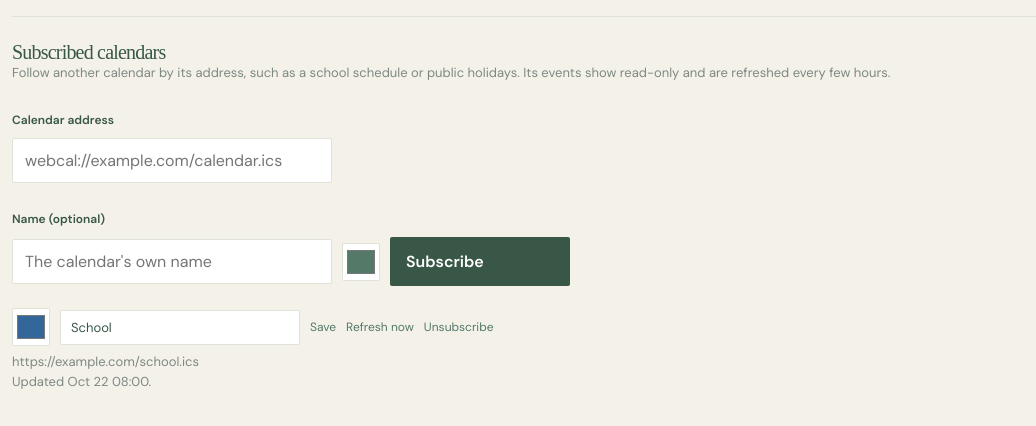
Test case: SubscriptionSettings › renames, refreshes and unsubscribes
Replace the text in the field named "Name of School" with "Uni" at (180, 327), box [60,310,300,344]
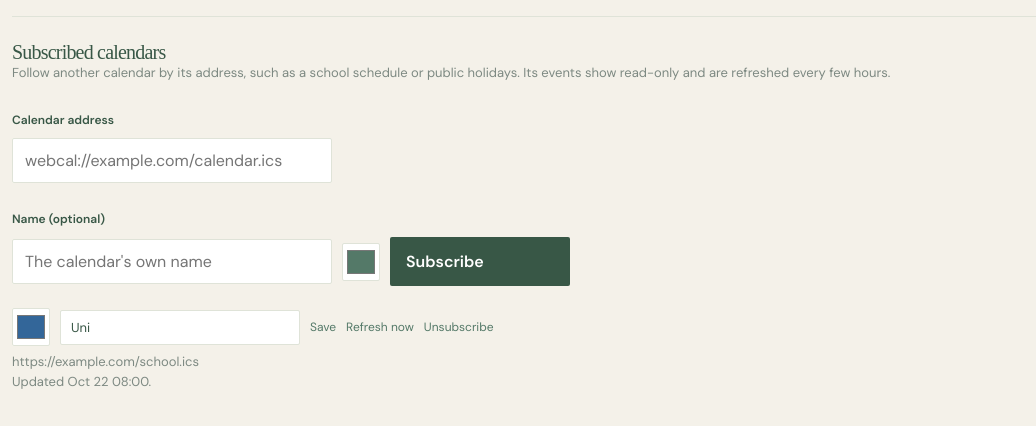
Click the button "Save".
click(323, 327)  # box [310,319,336,335]
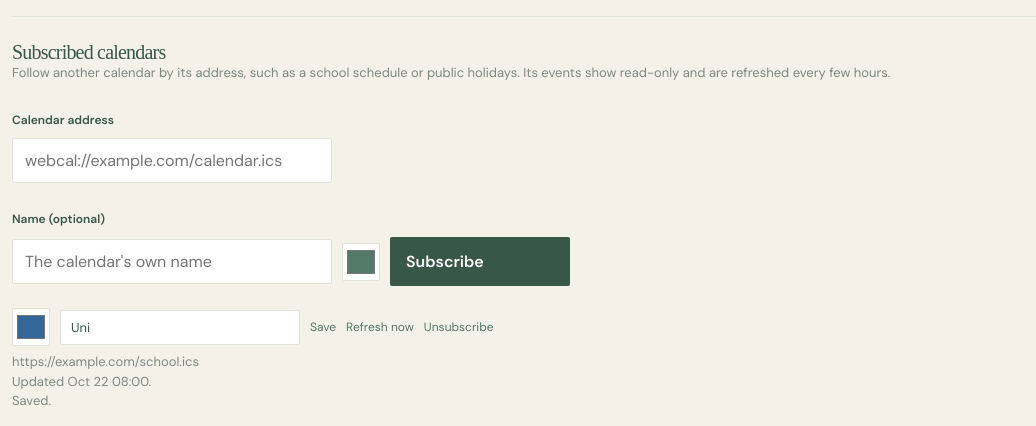
Check: the text "Saved." is shown, box [12,392,51,409]
Click the button "Refresh now".
click(380, 327)  # box [346,319,414,335]
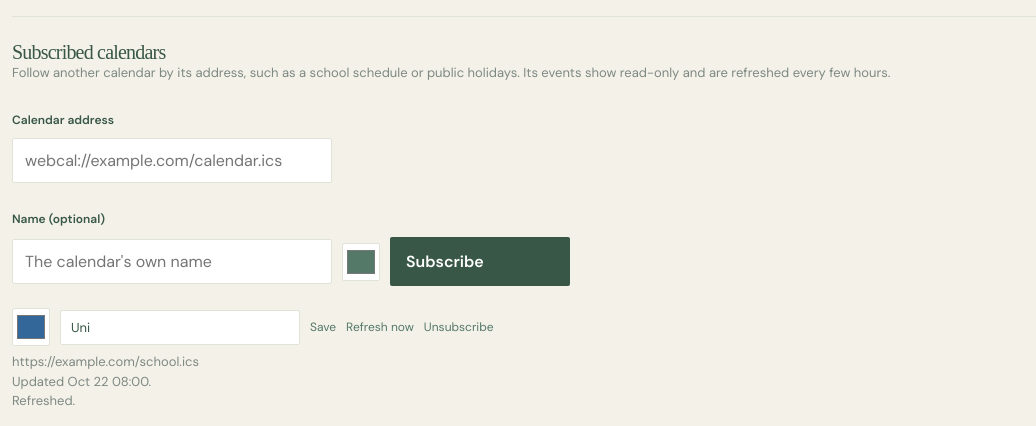
Check: the text "Refreshed." is shown, box [12,392,75,409]
Click the button "Unsubscribe".
click(459, 327)  # box [424,319,494,335]
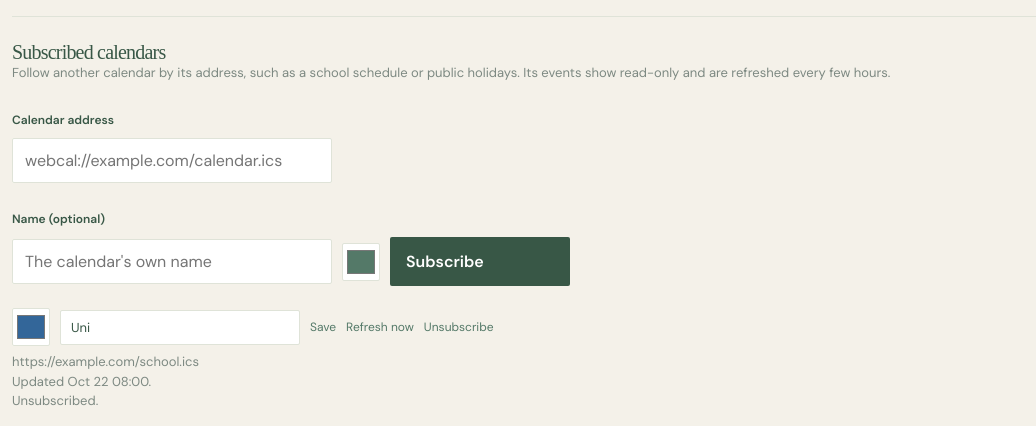
Check: the text "Unsubscribed." is shown, box [12,392,98,409]
